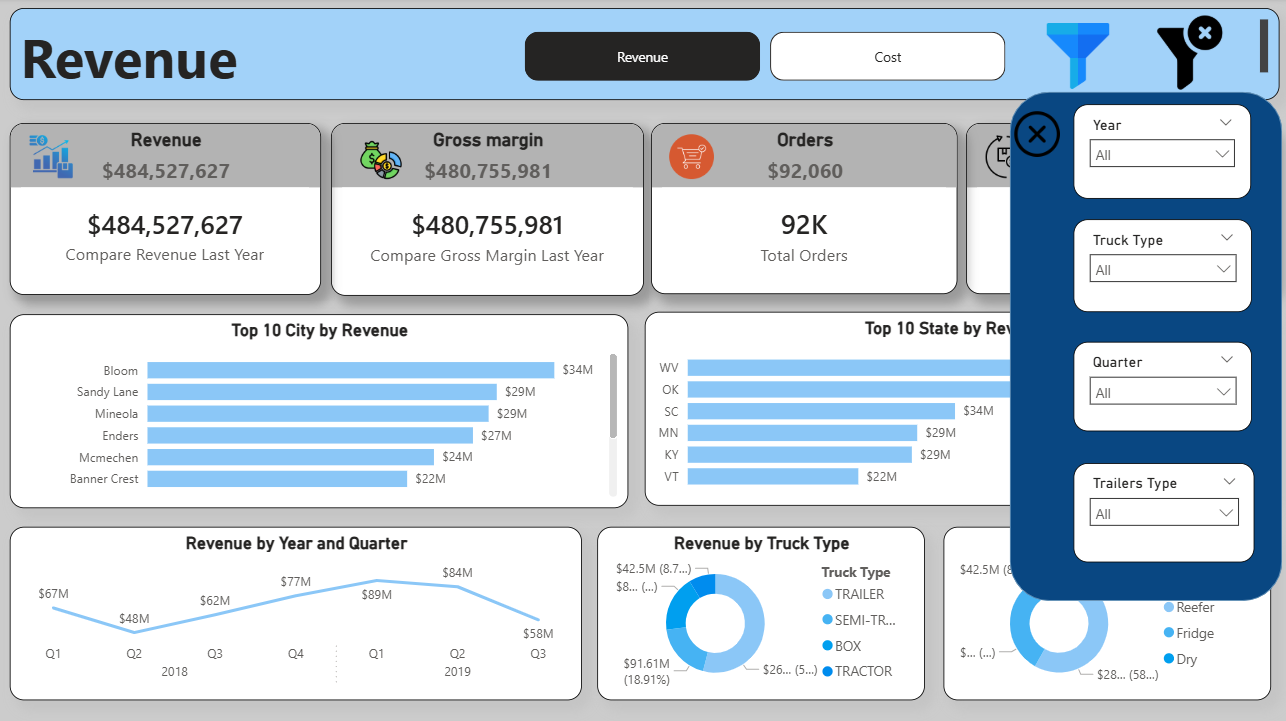

The page's visual inventory and layout, read from the dashboard file:
{"tool":"powerbi","page":{"name":"Revenue","canvas":[1280,720],"ordinal":0},"visuals":[{"type":"group","id":"g1","title":"Group 2","box":[0,122.9,328.5,169.1],"z":0,"group":"g6"},{"type":"cardVisual","title":"Revenue","fields":{"Data":["Measure.compare revenue last year"]},"box":[23,122.9,305.4,169.1],"z":0,"group":"g1"},{"type":"group","id":"g2","title":"Group 3","box":[321.4,122.9,324.3,170],"z":0},{"type":"group","id":"g3","title":"Group 1","box":[321.4,122.9,324.1,169.4],"z":0,"group":"g2"},{"type":"cardVisual","title":"Gross margin","fields":{"Data":["Measure.Compare Gross Margin Last Year"]},"box":[338.1,122.9,307.4,169.4],"z":0,"group":"g3"},{"type":"group","id":"g4","title":"Group 2","box":[652.9,122.9,301.1,167.7],"z":0,"group":"g8"},{"type":"cardVisual","title":"Orders","fields":{"Data":["Measure.Total Orders"]},"box":[652.9,122.9,301.1,167.7],"z":0,"group":"g4"},{"type":"group","id":"g5","title":"Group 2","box":[961.4,122.9,301.1,167.7],"z":0,"group":"g7"},{"type":"cardVisual","title":"Goods Value","fields":{"Data":["Measure.Total Goods Values"]},"box":[961.4,122.9,301.1,167.7],"z":0,"group":"g5"},{"type":"group","id":"g6","title":"Group 5","box":[0,122.9,328.6,170],"z":1000},{"type":"image","box":[662.6,134.2,60.2,43.6],"z":1000,"group":"g8"},{"type":"image","box":[971.6,134.2,60.2,43.6],"z":1000,"group":"g7"},{"type":"image","box":[32.9,134.3,61.1,44],"z":1000,"group":"g6"},{"type":"image","box":[351.6,139.1,71.1,41.1],"z":1000,"group":"g2"},{"type":"cardVisual","fields":{"Data":["Measure.Arrow"]},"box":[0,199.4,92.9,59.1],"z":1000,"group":"g1"},{"type":"cardVisual","fields":{"Data":["Measure.GM Arrow"]},"box":[321.4,199.9,84.1,55.9],"z":1000,"group":"g3"},{"type":"group","id":"g7","title":"Group 5","box":[961.4,122.9,300,167.1],"z":2000},{"type":"group","id":"g8","title":"Group 5","box":[652.9,122.9,301.4,168.6],"z":3000},{"type":"textbox","box":[23.3,10,1246.7,90],"z":4000},{"type":"image","box":[1013.3,25,116.7,65],"z":5000},{"type":"image","box":[1130,17.1,102.9,72.9],"z":6000},{"type":"clusteredBarChart","title":"Top 10 City by Revenue","fields":{"Category":["d_client.City"],"Y":["Measure.Total Revenue"]},"box":[22.9,310,607.1,190],"z":7000},{"type":"lineChart","title":" Revenue by Year and Quarter","fields":{"Category":["Date.Year","Date.Quarter"],"Y":["Measure.Total Revenue"]},"box":[22.9,518.6,561.4,170],"z":8000},{"type":"clusteredBarChart","title":"Top 10 State by Revenue","fields":{"Category":["d_client.State"],"Y":["Measure.Total Revenue"]},"box":[647.1,308.6,614.3,190],"z":9000},{"type":"donutChart","title":" Revenue by Truck Type","fields":{"Category":["d_vehicle.Truck Type"],"Y":["Measure.Total Revenue"]},"box":[600,518.6,321.4,170],"z":10000},{"type":"donutChart","title":"Revenue by Trailers Type","fields":{"Category":["d_vehicle.Trailers Type"],"Y":["Measure.Total Revenue"]},"box":[940,518.6,321.4,170],"z":11000},{"type":"pageNavigator","box":[528.6,32.9,472.9,48.6],"z":13000}]}

Visuals, with their boxes in screenshot pixels (x1, y1, x2, y2), scaled from the page's 1280x720 canvas onto the 1286x721 screenshot:
"Group 2" group: 0:123:330:292
"Revenue" cardVisual: 23:123:330:292
"Group 3" group: 323:123:649:293
"Group 1" group: 323:123:649:293
"Gross margin" cardVisual: 340:123:649:293
"Group 2" group: 656:123:958:291
"Orders" cardVisual: 656:123:958:291
"Group 2" group: 966:123:1268:291
"Goods Value" cardVisual: 966:123:1268:291
"Group 5" group: 0:123:330:293
image: 666:134:726:178
image: 976:134:1037:178
image: 33:134:94:179
image: 353:139:425:180
cardVisual - Measure.Arrow: 0:200:93:259
cardVisual - Measure.GM Arrow: 323:200:407:256
"Group 5" group: 966:123:1267:290
"Group 5" group: 656:123:959:292
textbox: 23:10:1276:100
image: 1018:25:1135:90
image: 1135:17:1239:90
"Top 10 City by Revenue" clusteredBarChart: 23:310:633:501
" Revenue by Year and Quarter" lineChart: 23:519:587:690
"Top 10 State by Revenue" clusteredBarChart: 650:309:1267:499
" Revenue by Truck Type" donutChart: 603:519:926:690
"Revenue by Trailers Type" donutChart: 944:519:1267:690
pageNavigator: 531:33:1006:82
